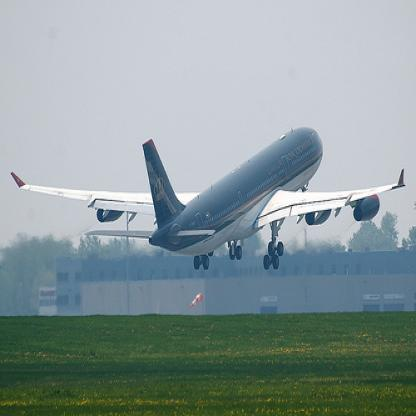aeroplane: (8, 124, 406, 270)
